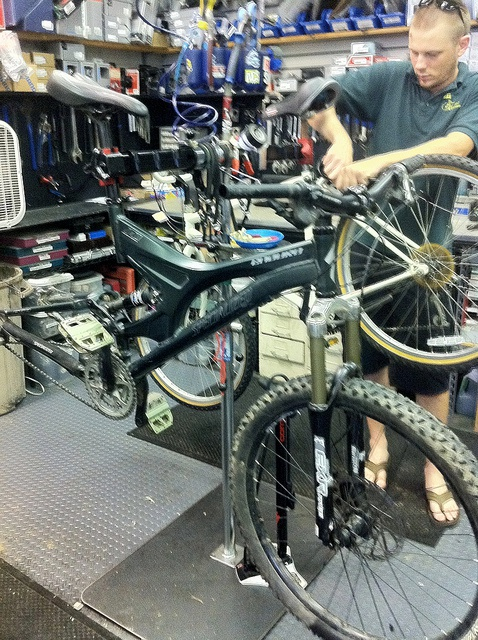non-vehicle: (1, 137, 469, 574), (150, 77, 478, 411)
